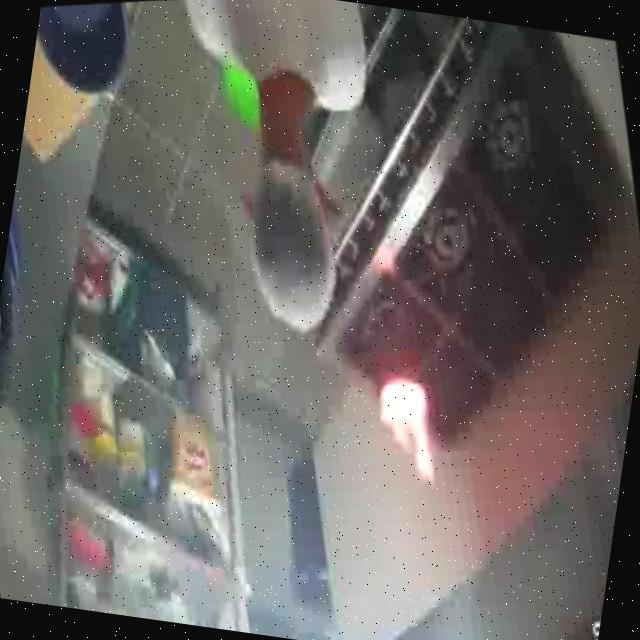fire: (331, 318, 483, 531)
